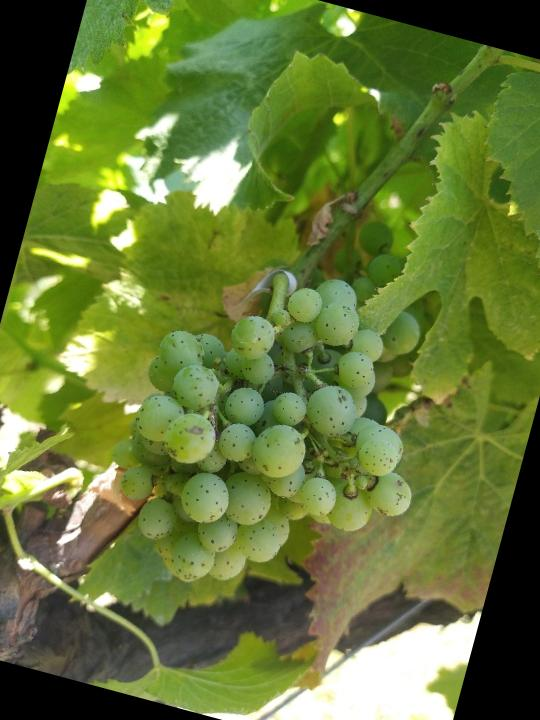grape: (80, 230, 464, 635)
